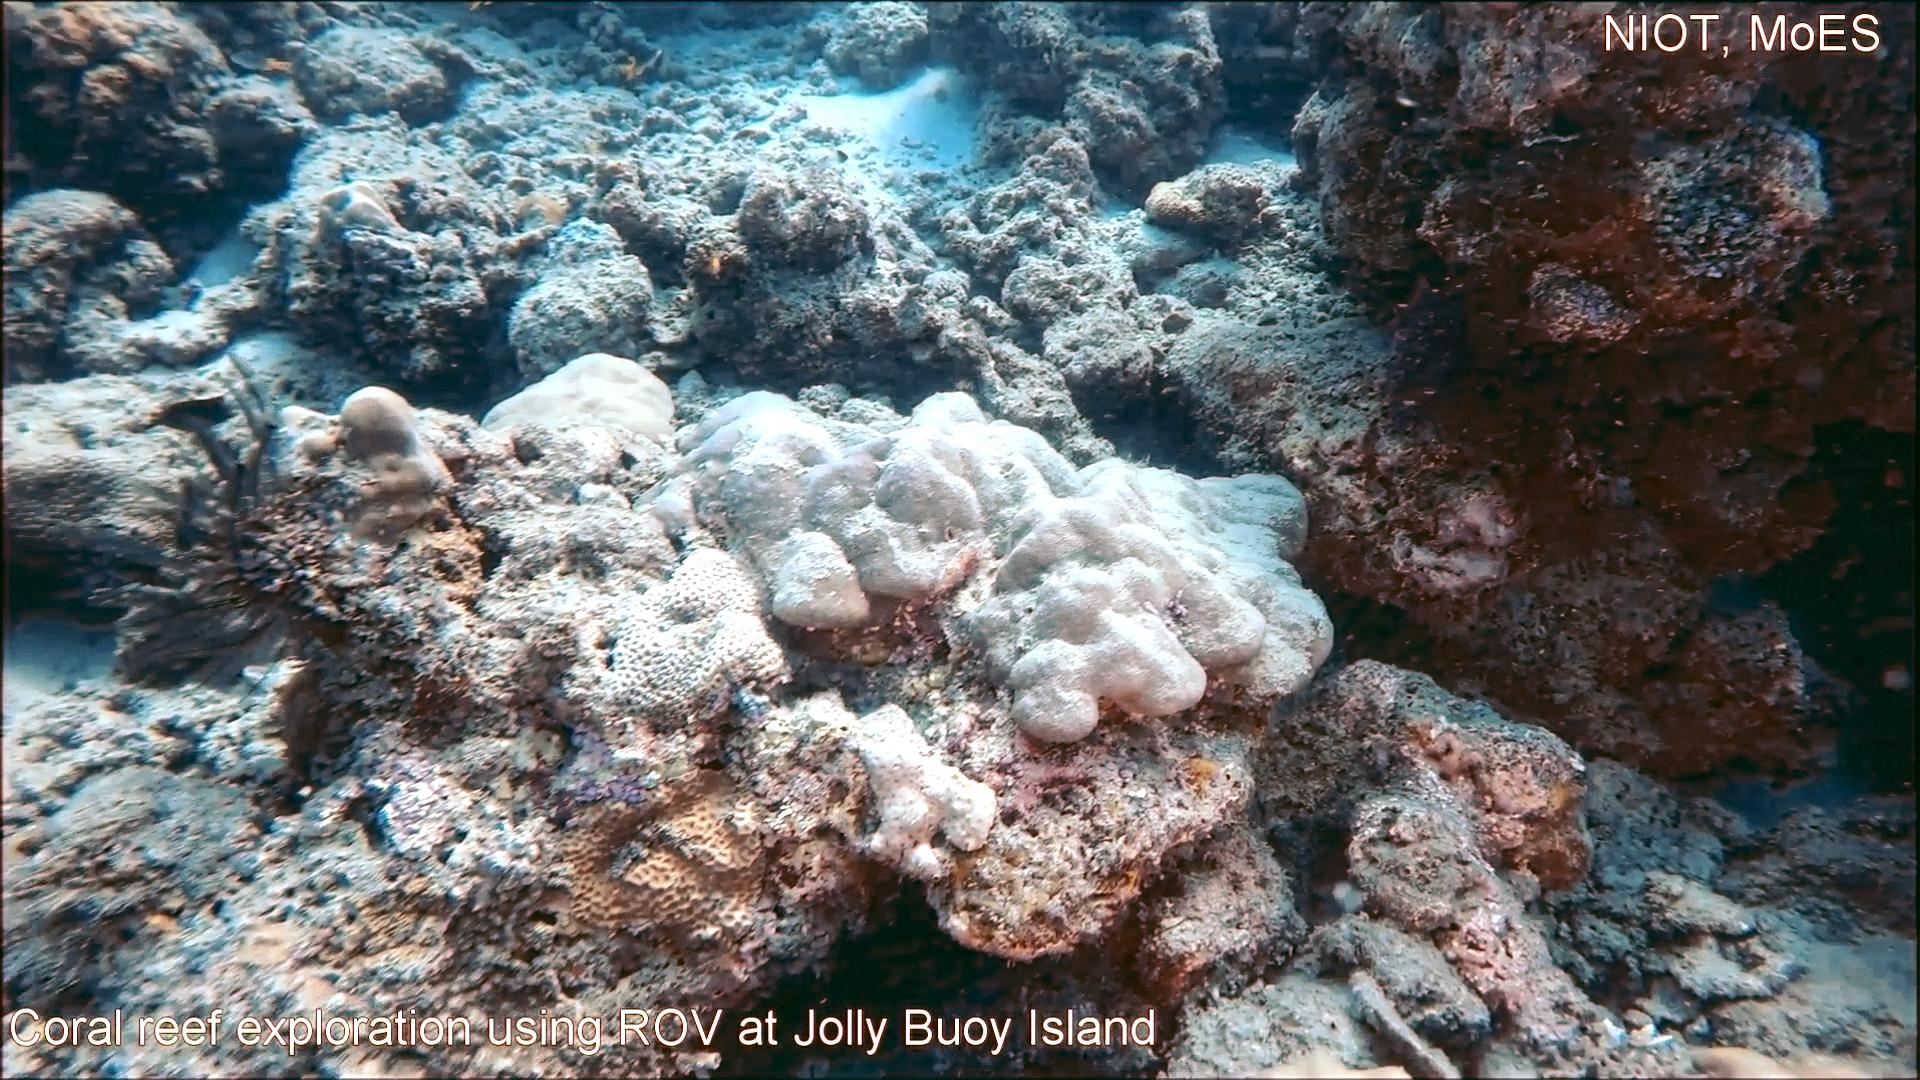Feather star-Crinoid star: (46, 340, 320, 716)
Goniastrea-Goniastrea pectinata: (608, 541, 795, 733)
Porites-Porites pukoensis: (876, 382, 1340, 746)
